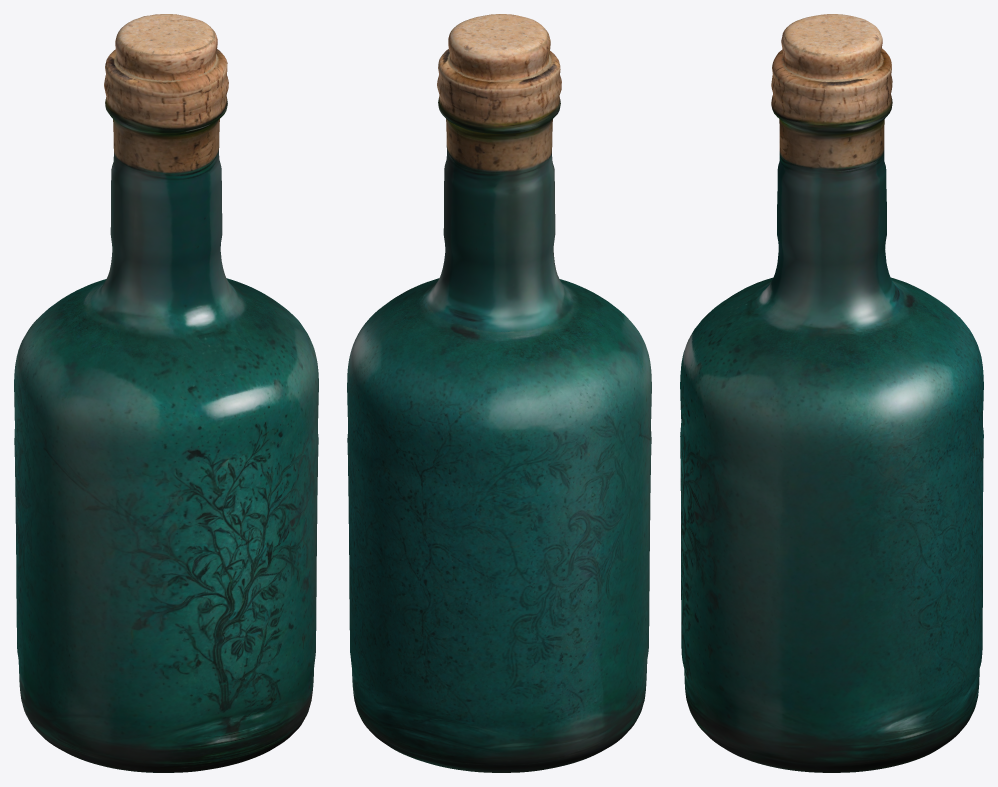
Rendered from rounded_glass_bottle__0613161749_texture.fbx.
3 renders of one model, left to right at view 1: azimuth 30°, elevation 25°; view 2: azimuth 150°, elevation 25°; view 3: azimuth 270°, elevation 25°, orthographic.
Parts seen in each view (by area): view 1: Mesh1_Mesh1.102; view 2: Mesh1_Mesh1.102; view 3: Mesh1_Mesh1.102.
Part boxes in pixels (x1=…): Mesh1_Mesh1.102: x1=14, y1=14, x2=318, y2=772; Mesh1_Mesh1.102: x1=347, y1=14, x2=651, y2=772; Mesh1_Mesh1.102: x1=680, y1=14, x2=983, y2=772.
Bounding box in the file's own units: 80.1 × 200 × 79.51.
1 material, 1 textured.
